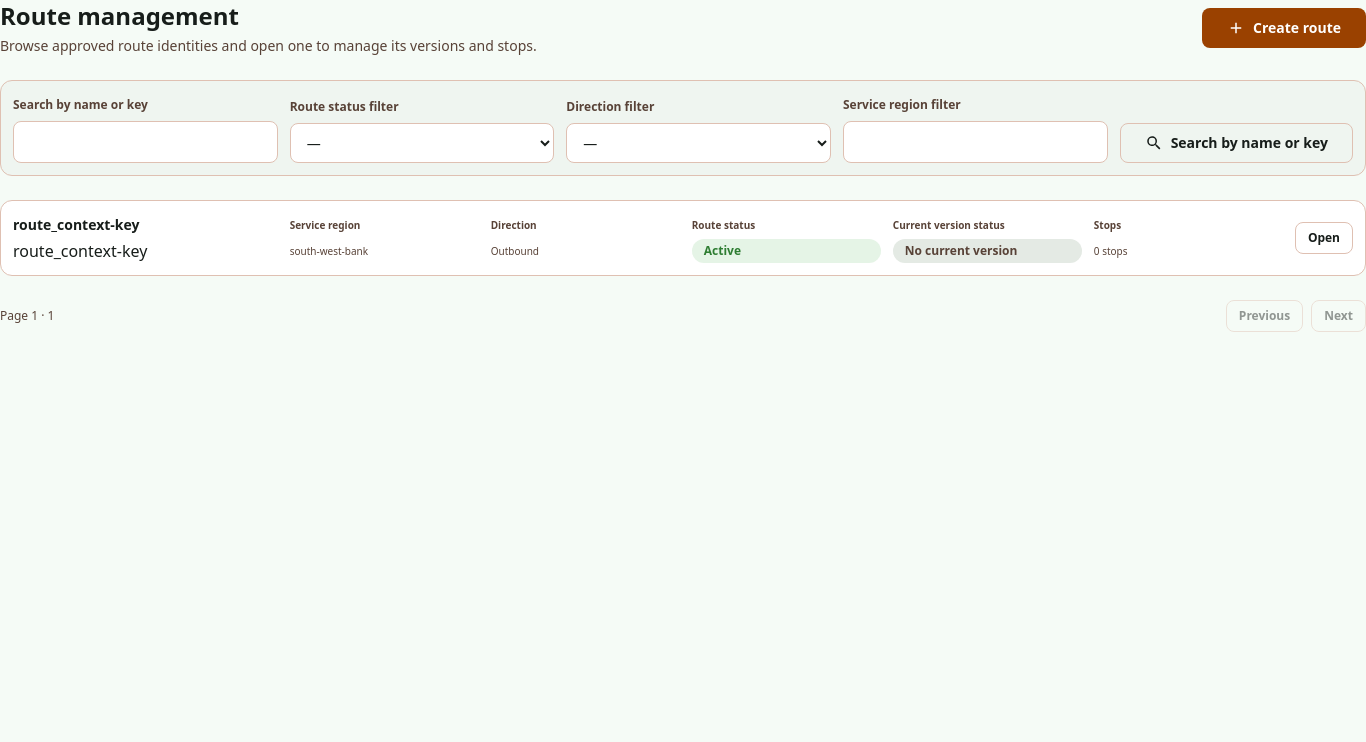
Scenario: admin route management › stop order failure stays in the hand-selected stops feedback scope
Click the button "Open" at [1324, 238], box x1=1295 y1=222 x2=1353 y2=254
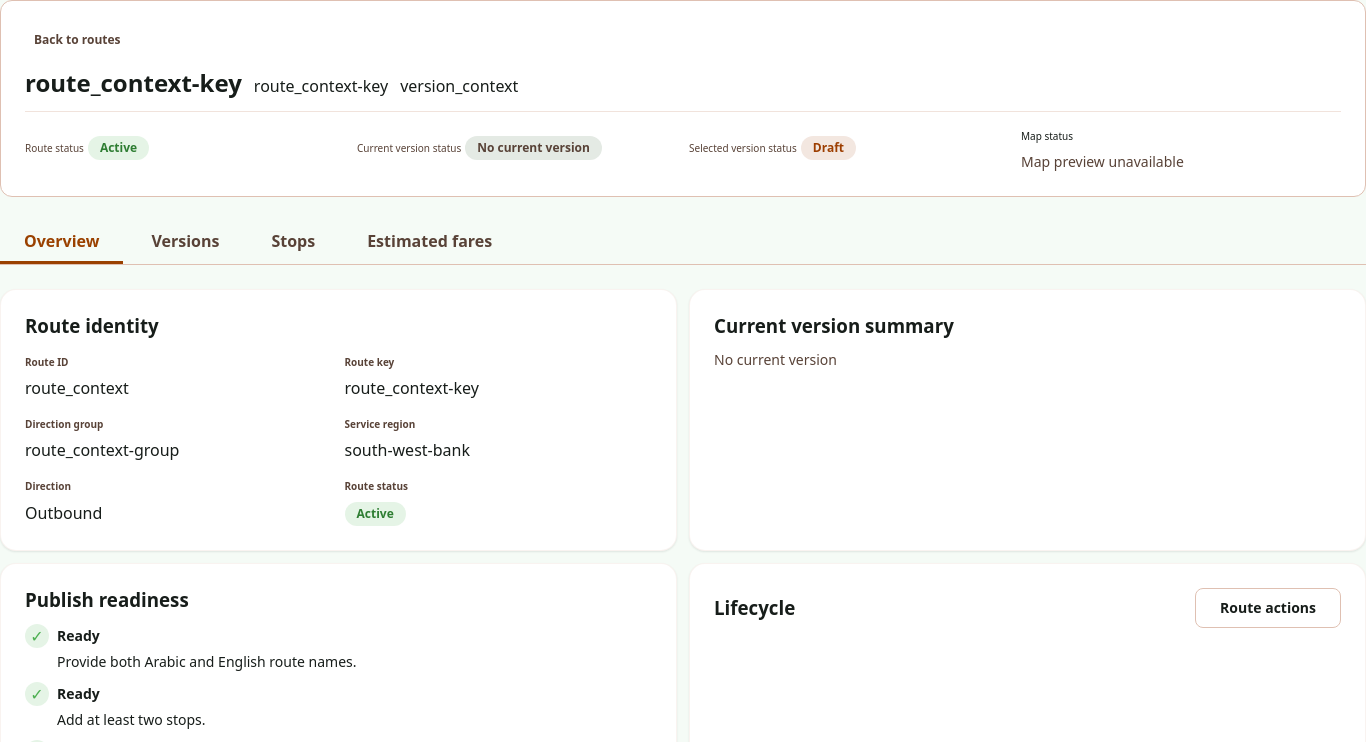
Click the tab "Stops" at [293, 242], box x1=247 y1=221 x2=339 y2=264
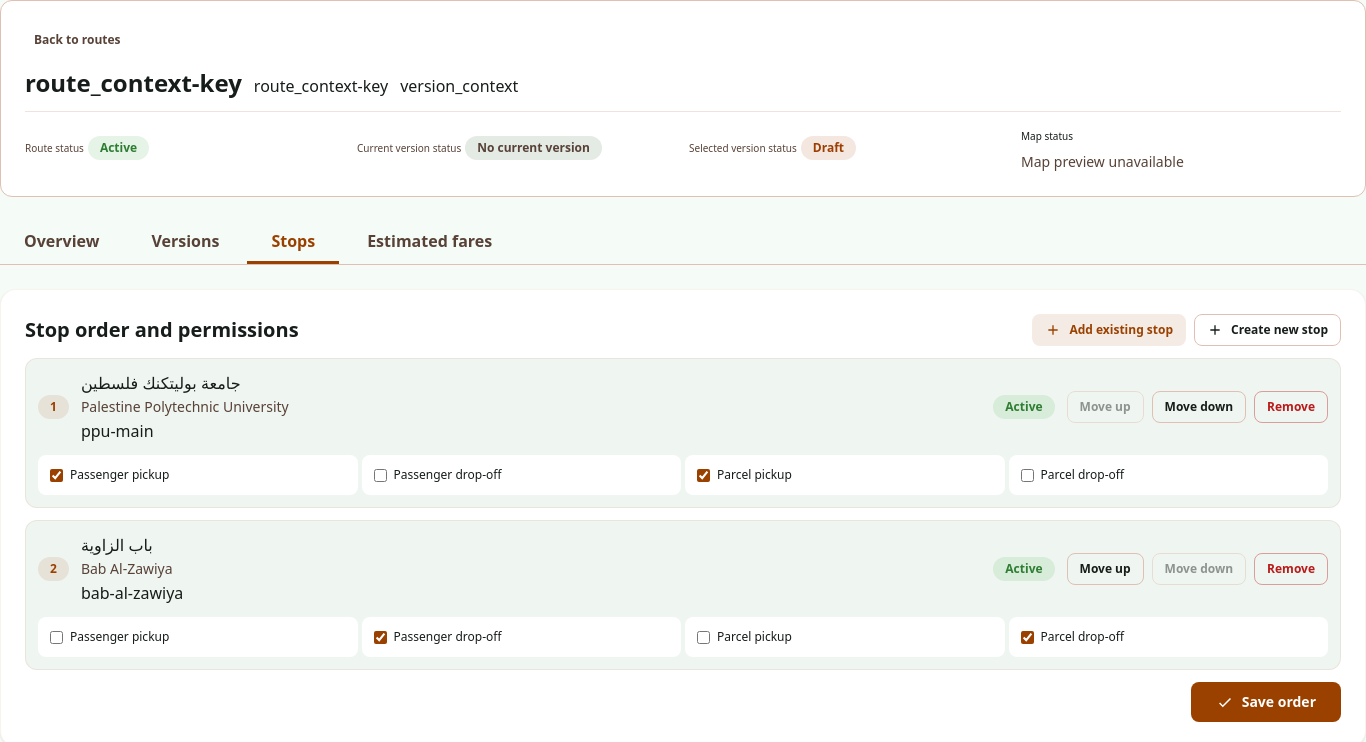
Click the button "Save order" at [1266, 702], box x1=1191 y1=682 x2=1341 y2=722
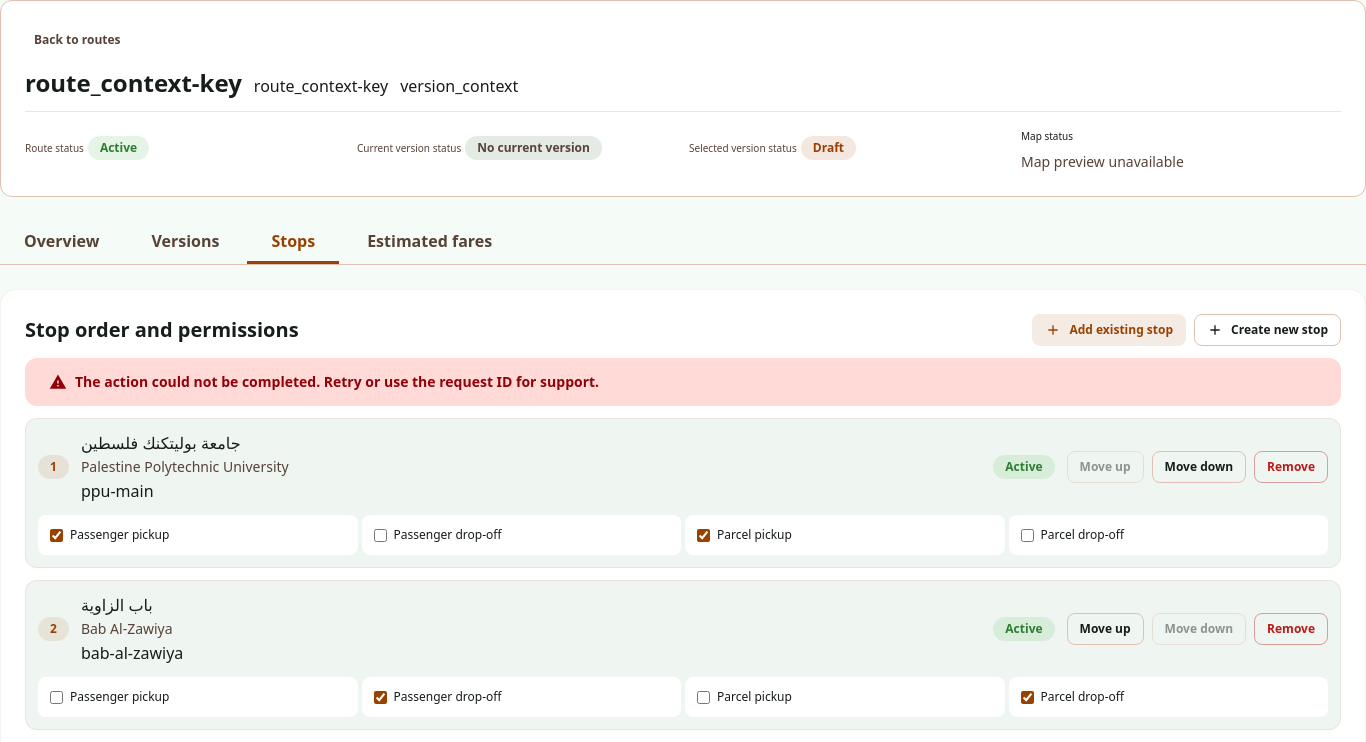
Expected: the message with class "notice--error" reads "The action could not be completed. Retry or use the request ID for support.", x1=75 y1=372 x2=599 y2=391
Expected: the number of messages with class "notice--error" is 1, x1=25 y1=358 x2=1341 y2=406
